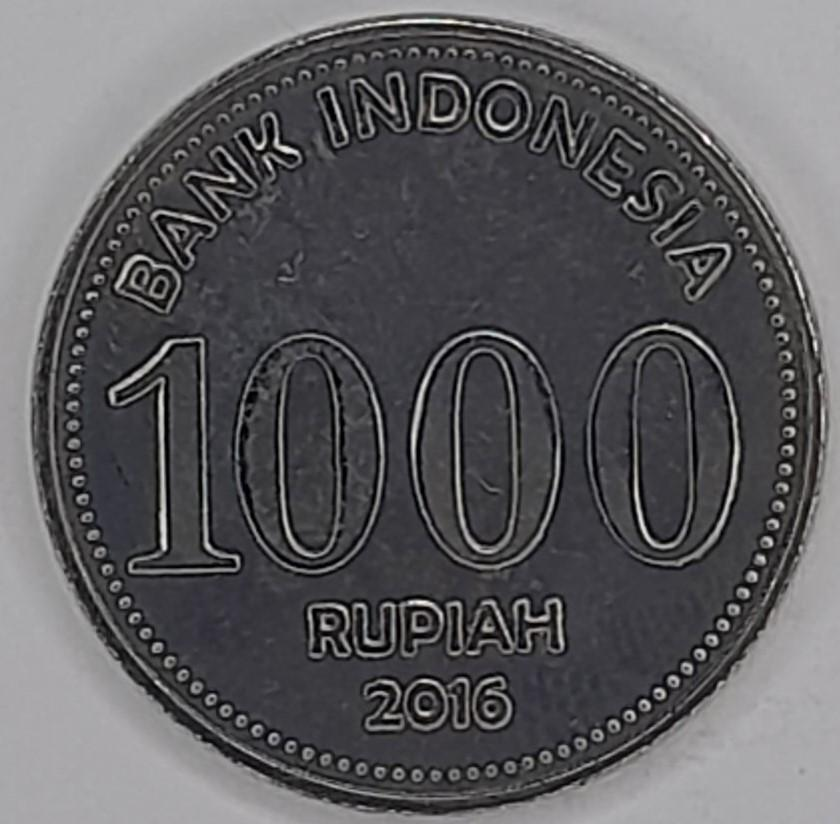coin_1000_e2016: (14, 16, 829, 824)
